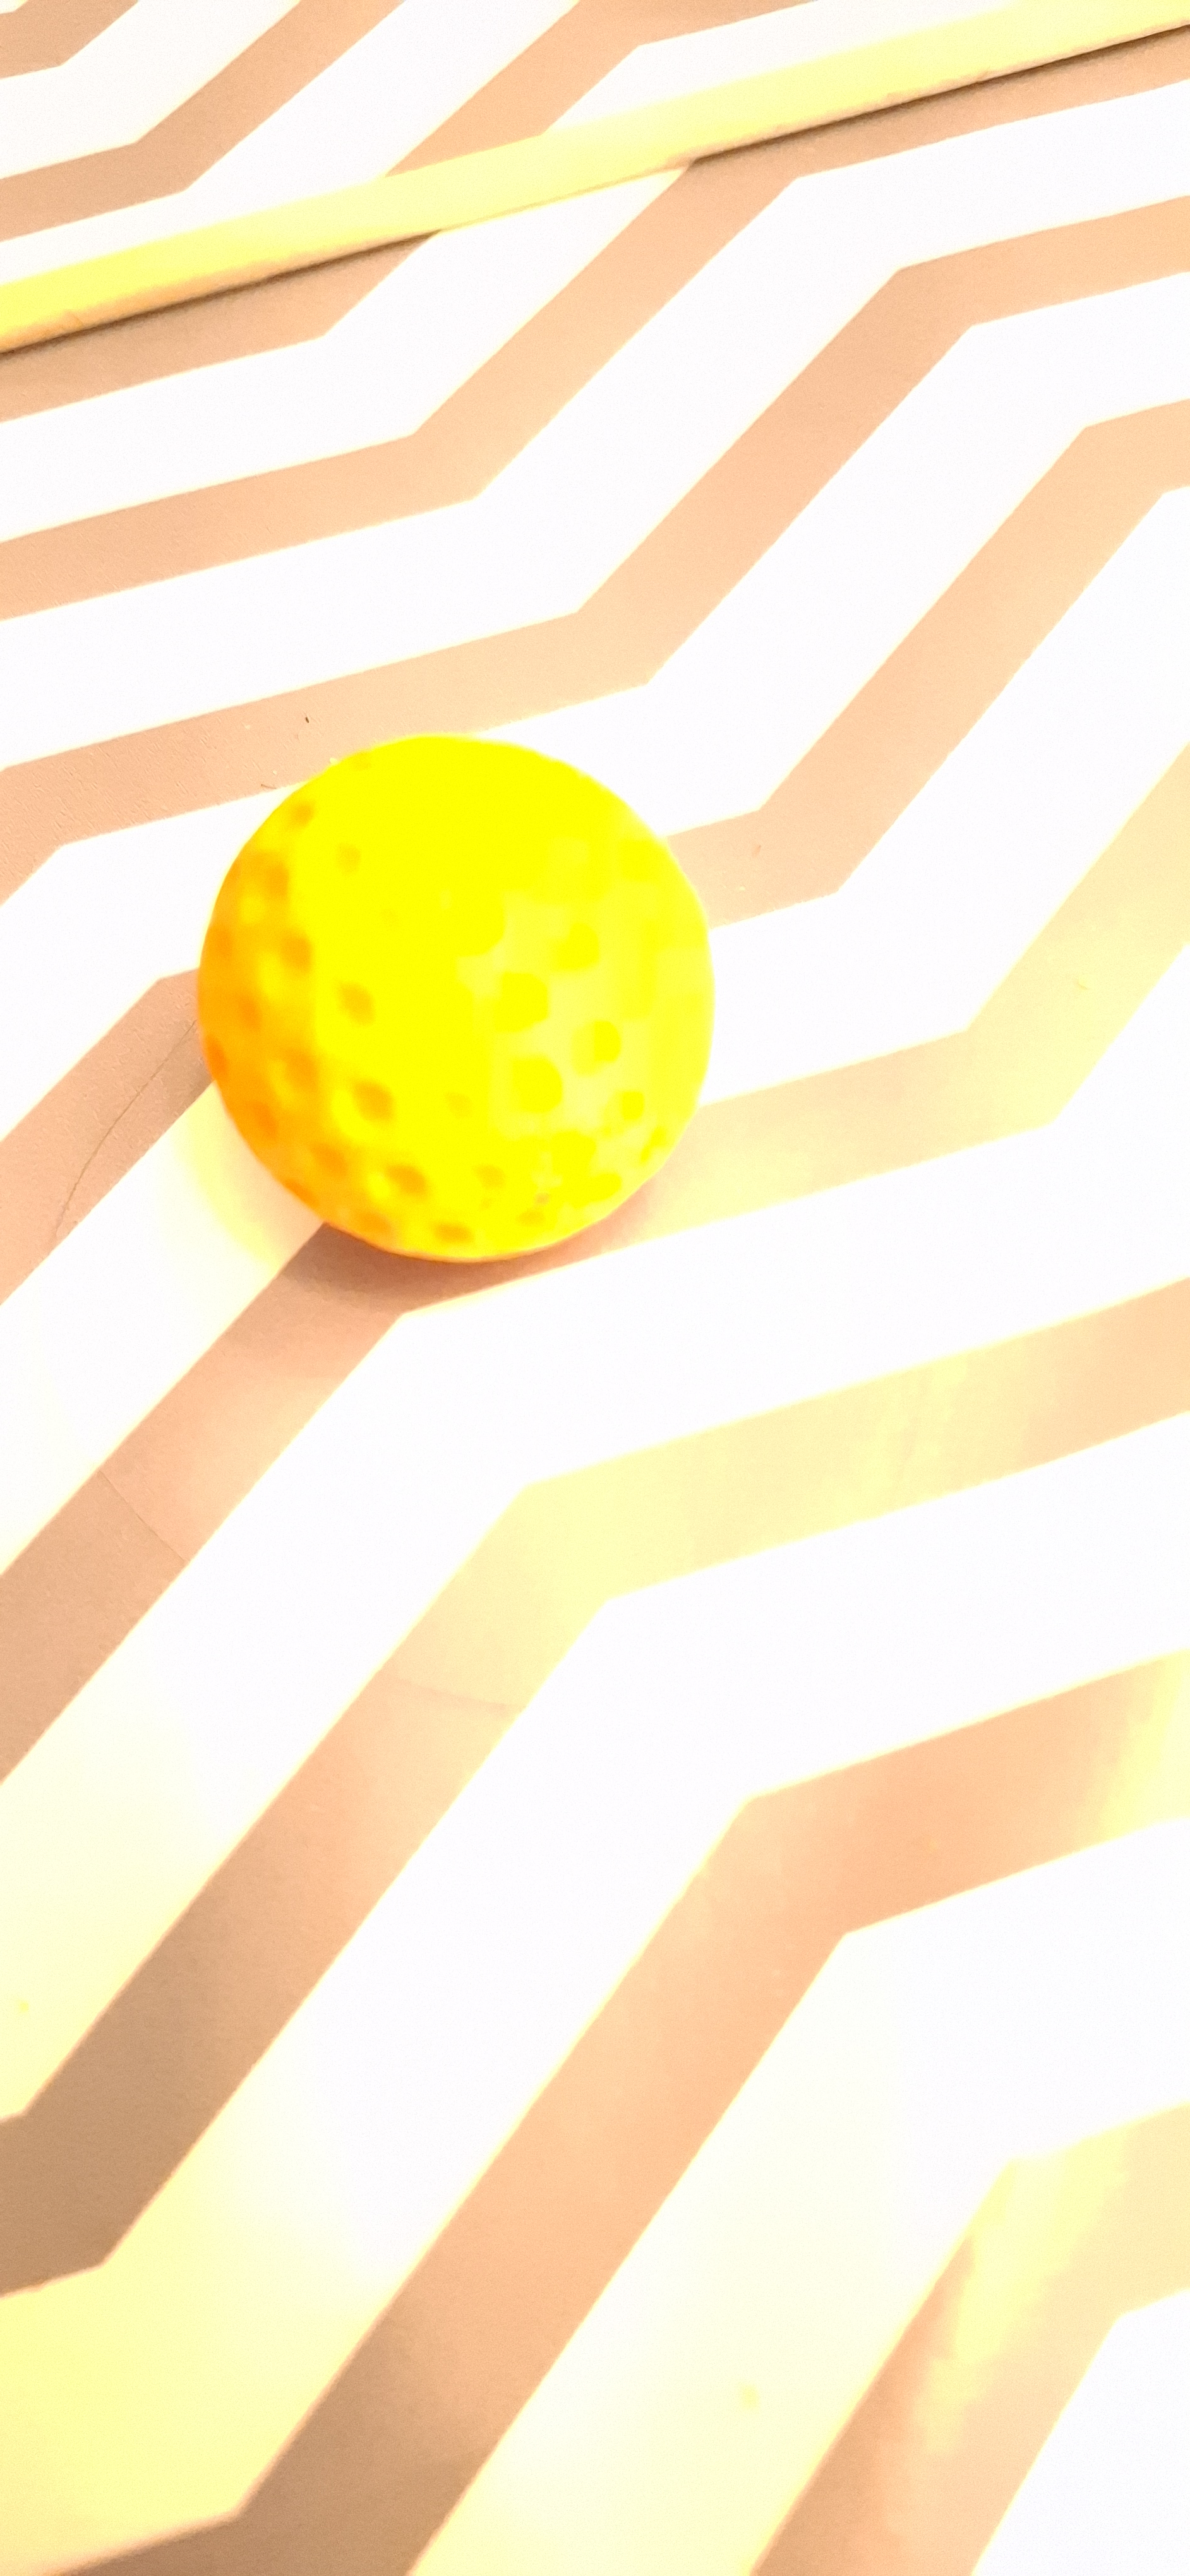ball: (342, 1019, 582, 2136)
